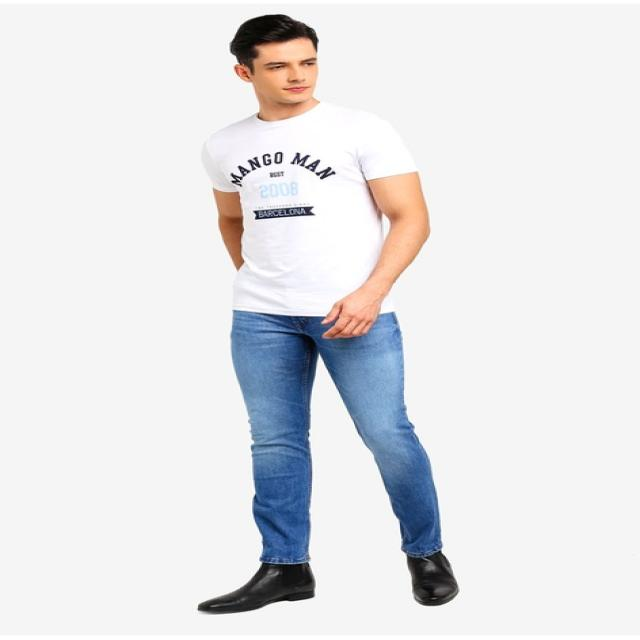mobile_phonerotation: (195, 13, 461, 613)
